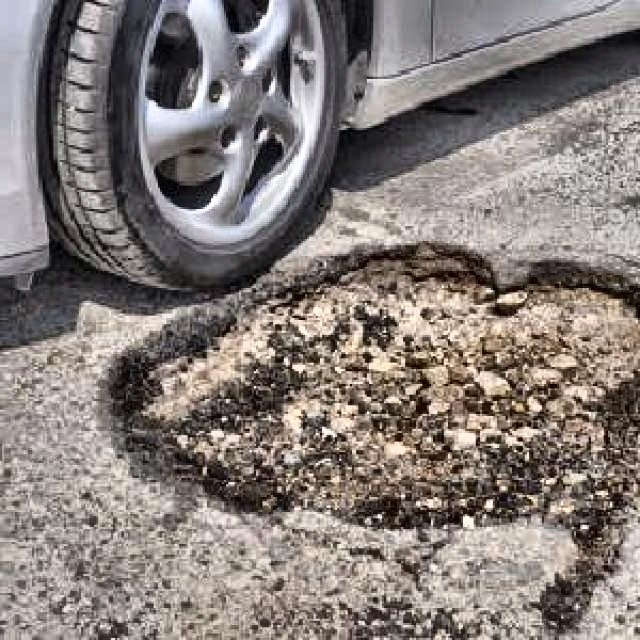Pothole: (100, 237, 640, 536)
